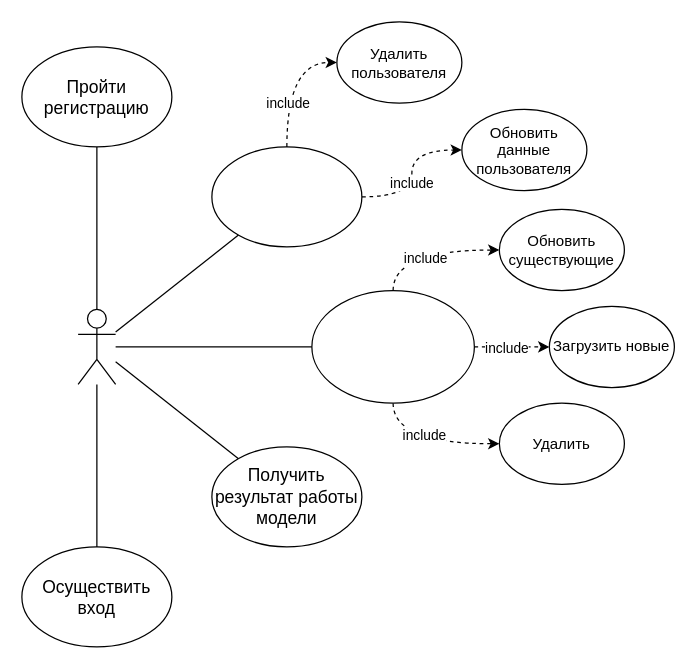
Some shapes in this 696 by 669 pixel diagram are drawn without their labels. Each missing label, with the centre of its shape:
User: the point at 96,346
Настроить пользователя: the point at 286,196
Осуществить работу с данными для инференса: the point at 392,346
